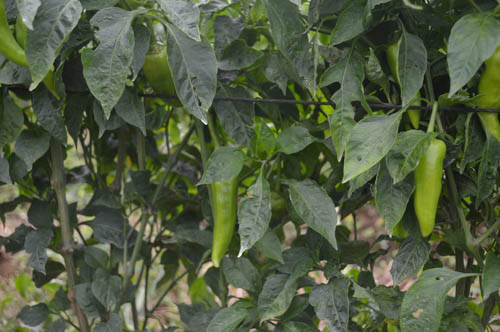ChiliPepper: (409, 140, 452, 245), (204, 179, 238, 270), (385, 48, 422, 126), (143, 51, 181, 105)
